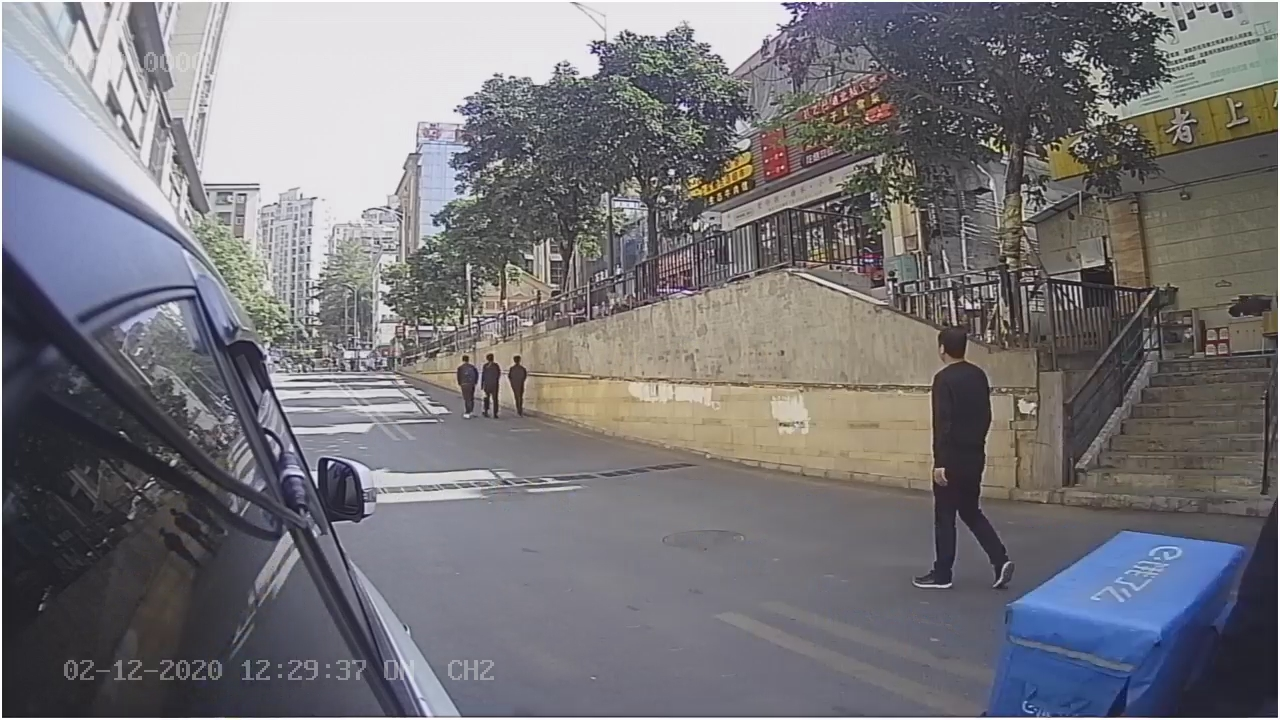person: (907, 322, 1019, 594)
